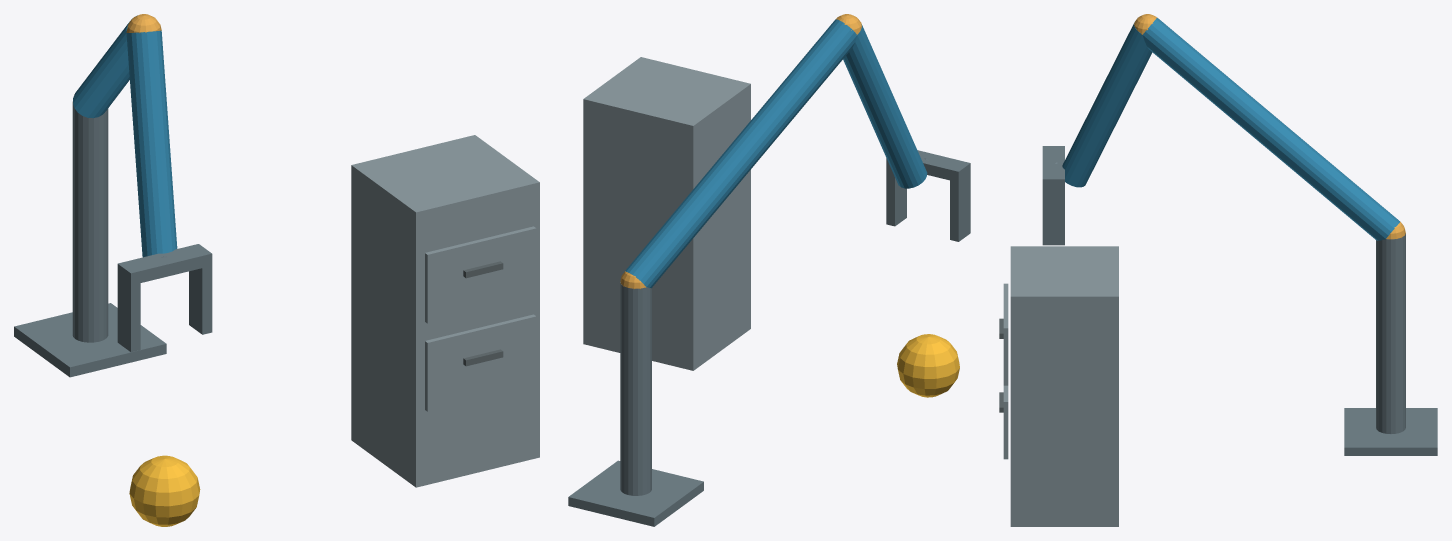
The picture shows the model from 3 angles, left to right: view 1: azimuth 30°, elevation 25°; view 2: azimuth 150°, elevation 25°; view 3: azimuth 270°, elevation 25°; orthographic projection. The views are drawn at different scales.
Visible parts, largest first — view 1: cabinet_1 body, fixed post, moving link 2, cabinet_1 drawer front, cabinet_1 drawer front.001, pedestal, ball ball_1, moving link 1, gripper bridge, gripper finger -1, gripper finger 1; view 2: cabinet_1 body, moving link 1, fixed post, moving link 2, pedestal, ball ball_1, gripper finger -1, gripper bridge, gripper finger 1; view 3: cabinet_1 body, moving link 1, fixed post, moving link 2, pedestal, gripper finger 1, gripper bridge, cabinet_1 drawer front.001.
Boxes of the visible parts, left/top/right/bottom form: cabinet_1 body: left=351, top=135, right=539, bottom=487; fixed post: left=72, top=101, right=108, bottom=342; moving link 2: left=126, top=30, right=177, bottom=257; cabinet_1 drawer front: left=425, top=314, right=536, bottom=411; cabinet_1 drawer front.001: left=425, top=226, right=536, bottom=323; pedestal: left=14, top=303, right=166, bottom=377; ball ball_1: left=129, top=455, right=200, bottom=526; moving link 1: left=73, top=18, right=132, bottom=118; gripper bridge: left=117, top=244, right=212, bottom=285; gripper finger -1: left=117, top=276, right=140, bottom=352; gripper finger 1: left=189, top=266, right=212, bottom=334; cabinet_1 body: left=583, top=57, right=750, bottom=370; moving link 1: left=624, top=19, right=857, bottom=288; fixed post: left=620, top=282, right=651, bottom=495; moving link 2: left=843, top=24, right=927, bottom=188; pedestal: left=568, top=460, right=703, bottom=526; ball ball_1: left=897, top=334, right=959, bottom=397; gripper finger -1: left=950, top=174, right=970, bottom=241; gripper bridge: left=886, top=150, right=970, bottom=182; gripper finger 1: left=886, top=165, right=906, bottom=226; cabinet_1 body: left=1010, top=246, right=1118, bottom=526; moving link 1: left=1142, top=18, right=1399, bottom=240; fixed post: left=1376, top=233, right=1405, bottom=433; moving link 2: left=1062, top=24, right=1152, bottom=187; pedestal: left=1344, top=408, right=1437, bottom=455; gripper finger 1: left=1042, top=189, right=1064, bottom=245; gripper bridge: left=1042, top=146, right=1064, bottom=189; cabinet_1 drawer front.001: left=1003, top=283, right=1008, bottom=385.
Bounding box in the file's own units: 1.01 × 1.13 × 1.17.
